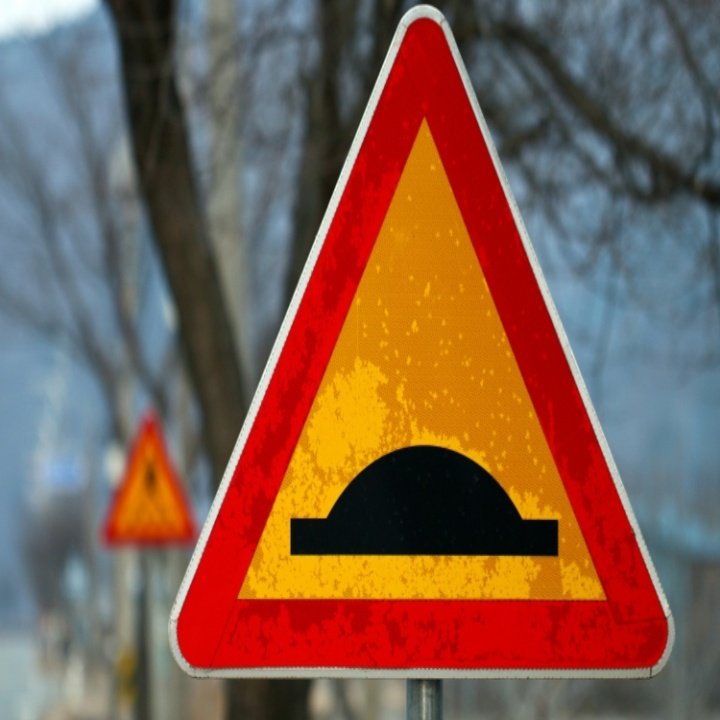bump: (257, 411, 625, 595)
